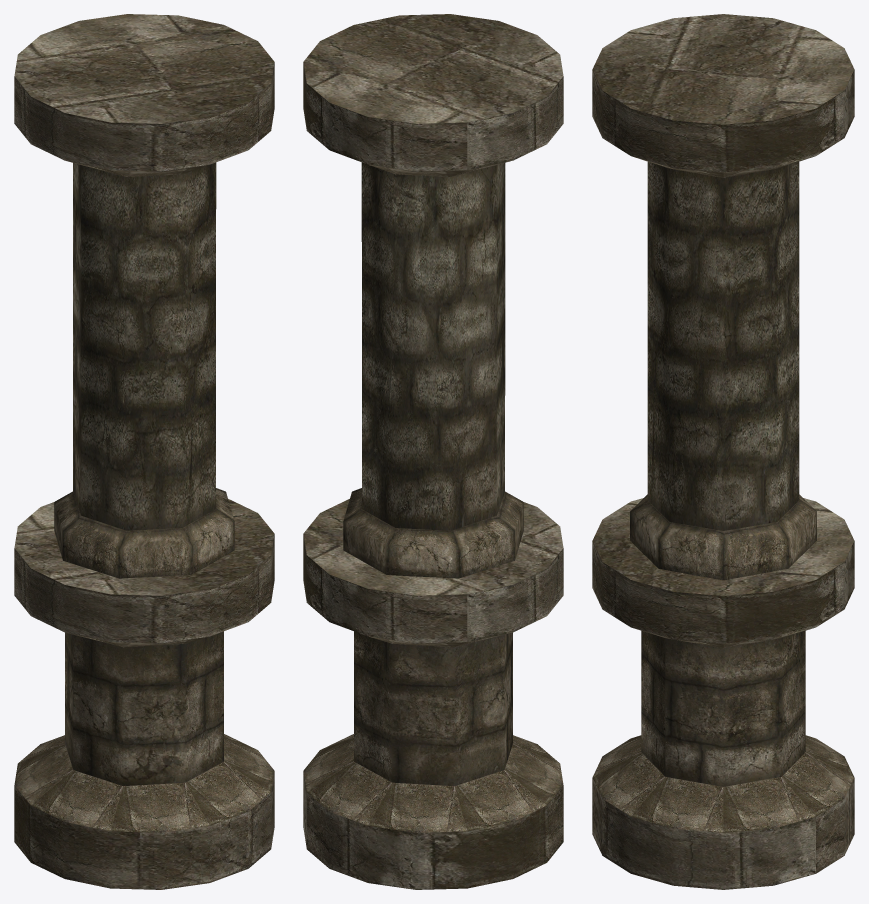
Rendered from welder_convex_worn_amfp.dae.
3 renders of one model, left to right at view 1: azimuth 30°, elevation 25°; view 2: azimuth 150°, elevation 25°; view 3: azimuth 270°, elevation 25°, orthographic.
Visible parts, largest first — view 1: Cylinder001; view 2: Cylinder001; view 3: Cylinder001.
Part boxes in pixels (x1,y1,x2,y2): Cylinder001: [14, 14, 274, 889]; Cylinder001: [303, 14, 563, 889]; Cylinder001: [592, 14, 854, 889].
Bounding box in the file's own units: 1.24 × 4 × 1.24.
